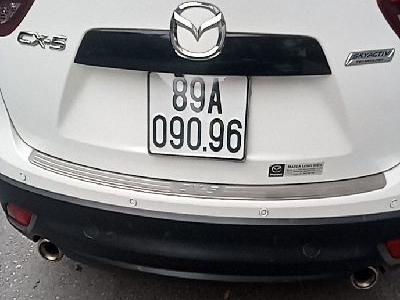lisence: (146, 69, 252, 164)
